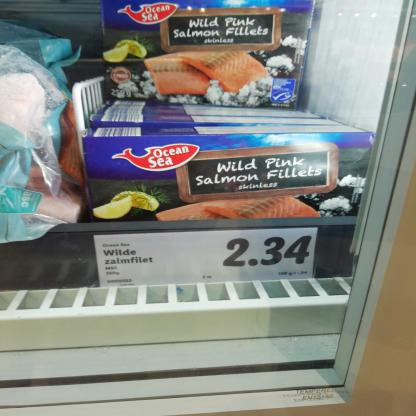prtg: (94, 229, 319, 289)
